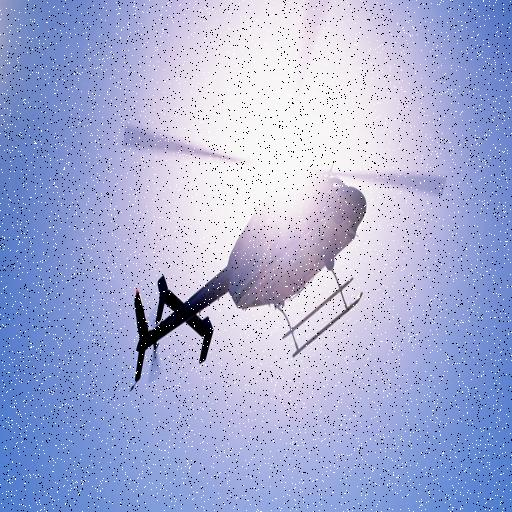helicopter: (119, 1, 448, 390)
